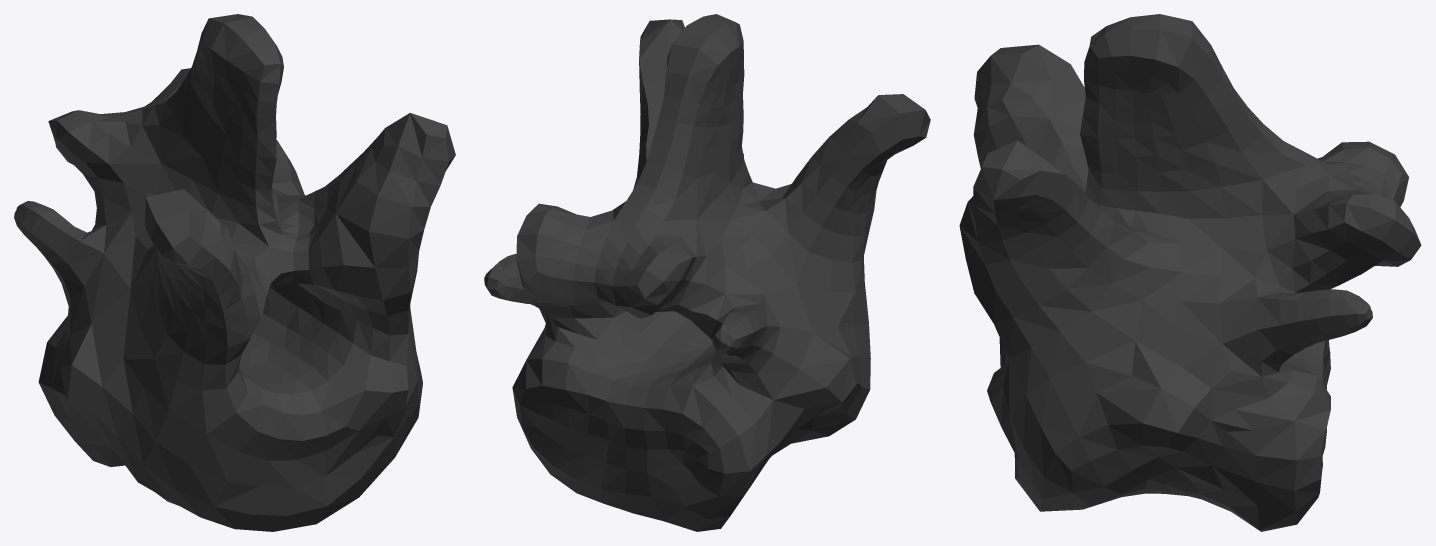
3 views of the same model, side by side, from view 1: azimuth 30°, elevation 25°; view 2: azimuth 150°, elevation 25°; view 3: azimuth 270°, elevation 25° (orthographic). The views are drawn at different scales.
Parts seen in each view (by area): view 1: T13; view 2: T13; view 3: T13.
Part boxes in pixels (x1,y1,x2,y2): T13: (14,14,455,531); T13: (484,14,930,531); T13: (959,14,1421,531).
Size of the model in its own units: 1.95 by 2.63 by 2.28.
Materials: 1 (1 with a texture image).
